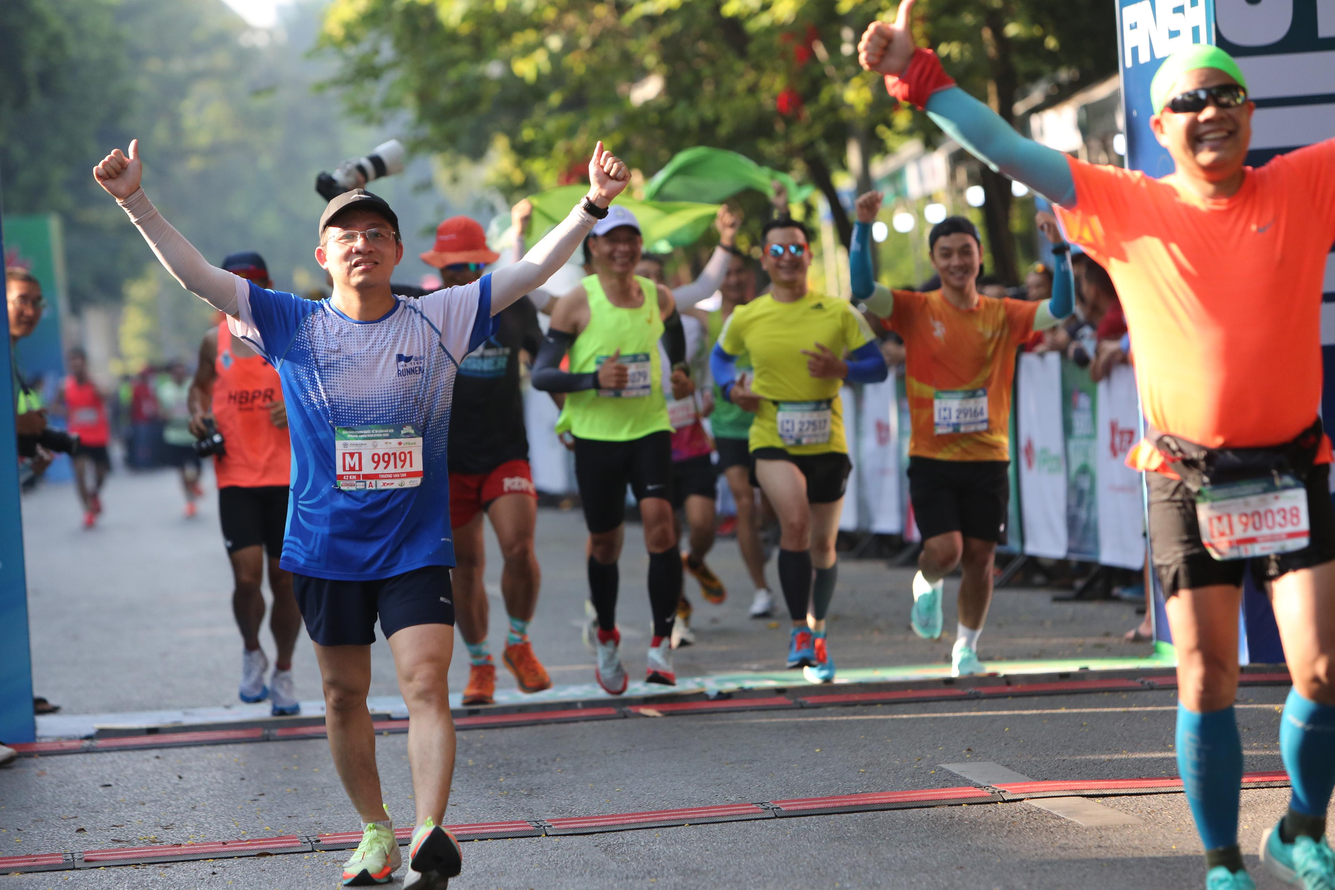bib: (1196, 483, 1312, 560), (335, 428, 424, 488), (935, 389, 988, 437), (778, 400, 832, 443), (598, 354, 653, 396)
